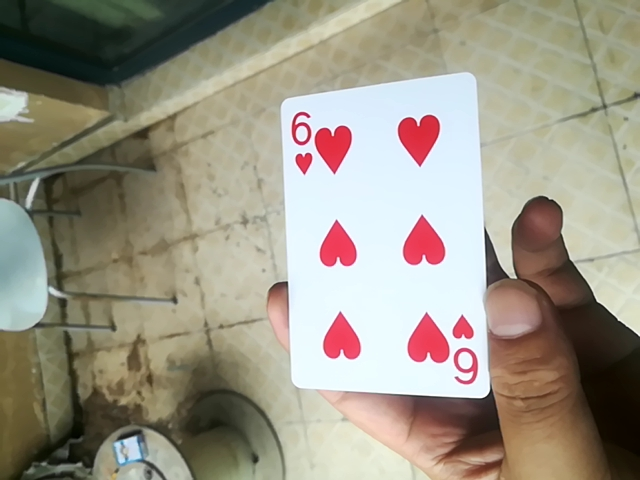hx 6: (287, 71, 494, 401)
